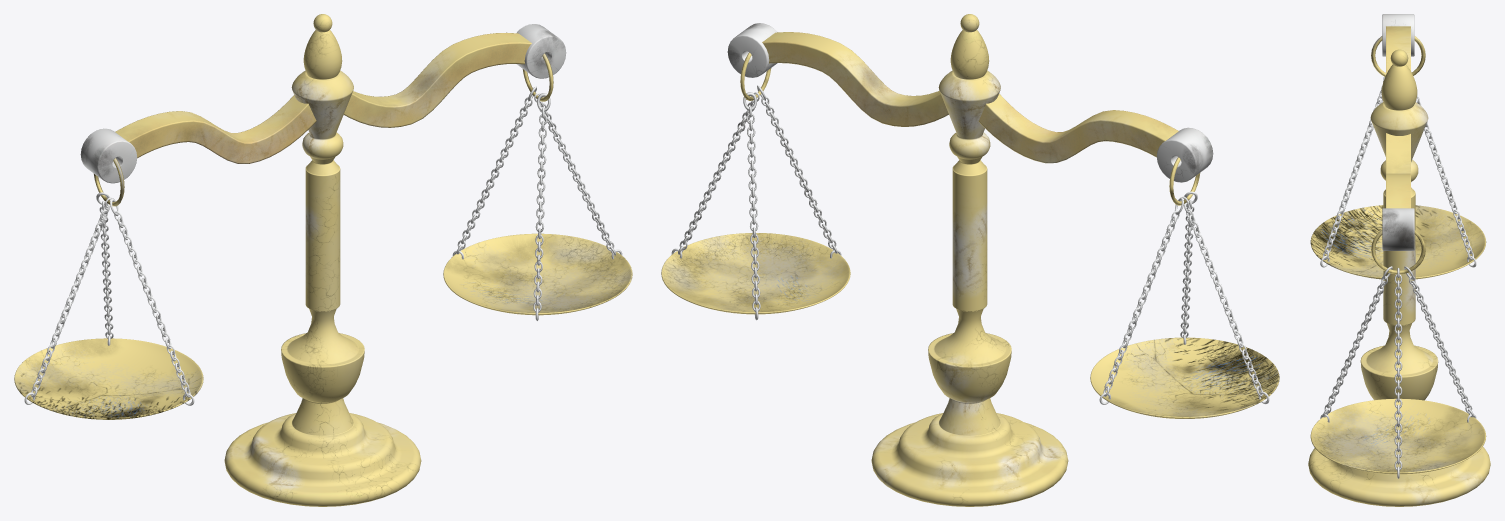
3 renders of one model, left to right at view 1: azimuth 30°, elevation 25°; view 2: azimuth 150°, elevation 25°; view 3: azimuth 270°, elevation 25°, orthographic. The views are drawn at different scales.
Visible parts, largest first — view 1: Justice Measure_01_Material #26_0, Justice Measure_01_Material #30_0, Justice Measure_01_Material #27_0, Justice Measure_01_Material #78_0, Justice Measure_01_Material #28_0, Justice Measure_01_Material #29_0; view 2: Justice Measure_01_Material #26_0, Justice Measure_01_Material #30_0, Justice Measure_01_Material #27_0, Justice Measure_01_Material #78_0, Justice Measure_01_Material #28_0, Justice Measure_01_Material #29_0; view 3: Justice Measure_01_Material #30_0, Justice Measure_01_Material #26_0, Justice Measure_01_Material #78_0, Justice Measure_01_Material #27_0, Justice Measure_01_Material #28_0, Justice Measure_01_Material #29_0.
Boxes of the visible parts, x1,y1,x2,y2 form: Justice Measure_01_Material #26_0: (224,14,421,506); Justice Measure_01_Material #30_0: (14,233,632,419); Justice Measure_01_Material #27_0: (115,32,531,163); Justice Measure_01_Material #78_0: (24,86,622,405); Justice Measure_01_Material #28_0: (80,24,566,183); Justice Measure_01_Material #29_0: (94,53,553,206); Justice Measure_01_Material #26_0: (871,14,1068,506); Justice Measure_01_Material #30_0: (661,233,1279,418); Justice Measure_01_Material #27_0: (762,32,1178,163); Justice Measure_01_Material #78_0: (671,85,1269,404); Justice Measure_01_Material #28_0: (727,23,1213,182); Justice Measure_01_Material #29_0: (740,52,1200,205); Justice Measure_01_Material #30_0: (1310,205,1486,474); Justice Measure_01_Material #26_0: (1308,49,1490,506); Justice Measure_01_Material #78_0: (1320,76,1476,478); Justice Measure_01_Material #27_0: (1386,26,1410,208); Justice Measure_01_Material #28_0: (1382,14,1414,250); Justice Measure_01_Material #29_0: (1371,36,1425,274).
Size of the model in its own units: 0.4166 by 0.3016 by 0.1188.
6 materials, 6 textured.
